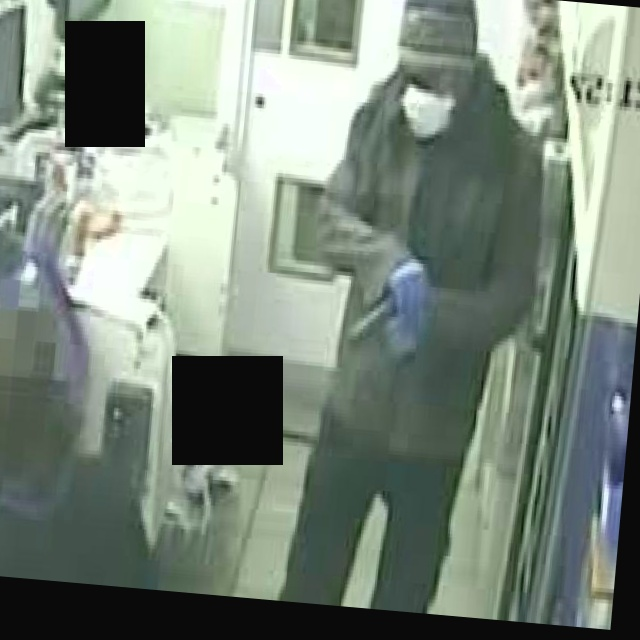gun: (342, 272, 419, 363)
